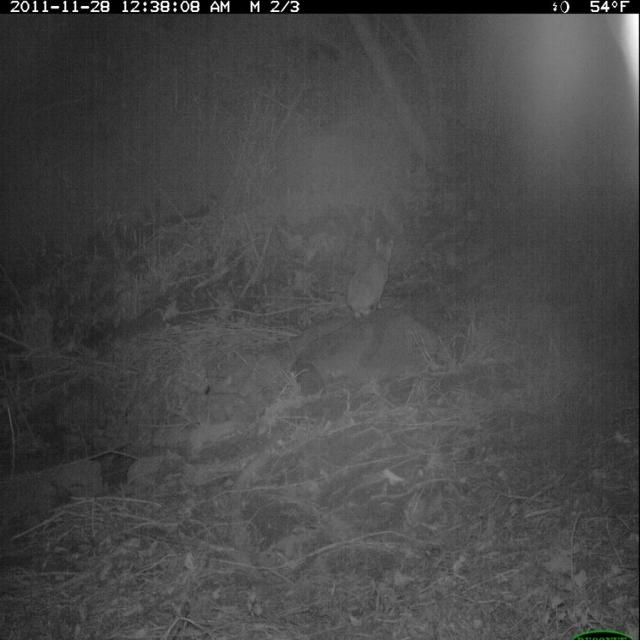bobcat: (337, 223, 408, 336)
